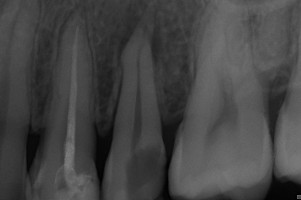Furcation Involvement: (120, 7, 142, 53), (151, 25, 162, 64)
